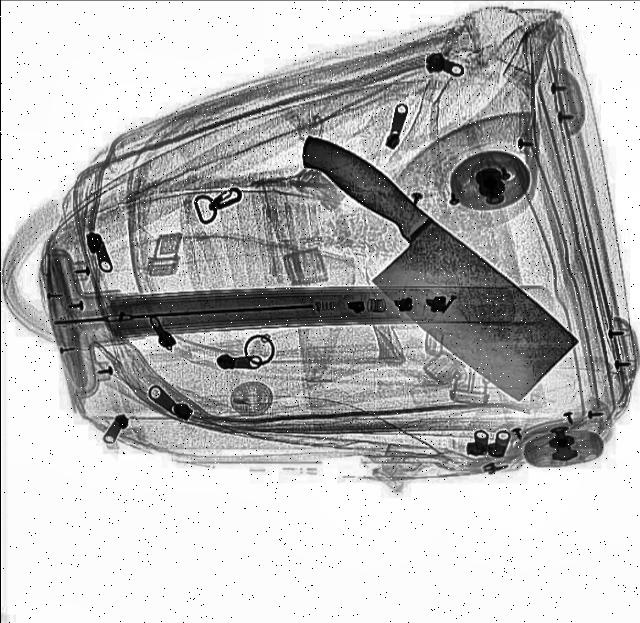Knife: (247, 119, 585, 405)
